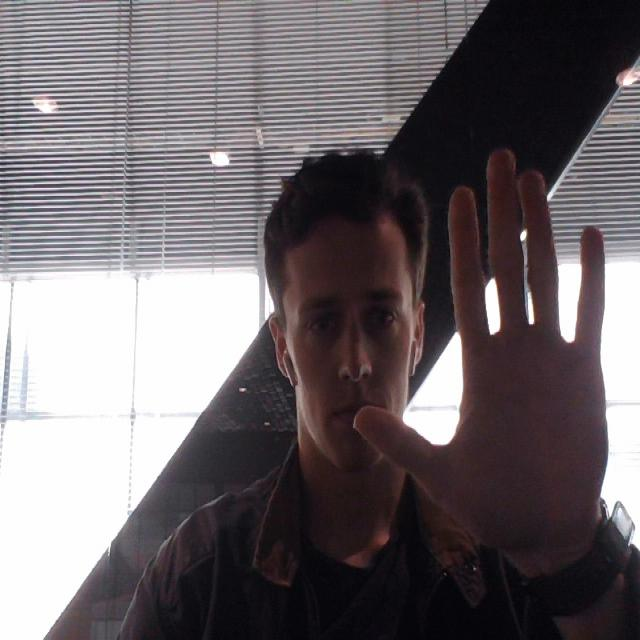backward: (350, 114, 634, 542)
